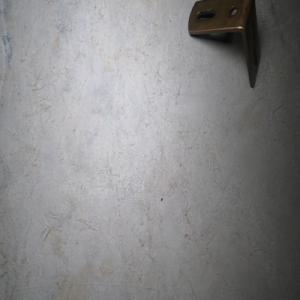MetalPart: (187, 0, 261, 89)
